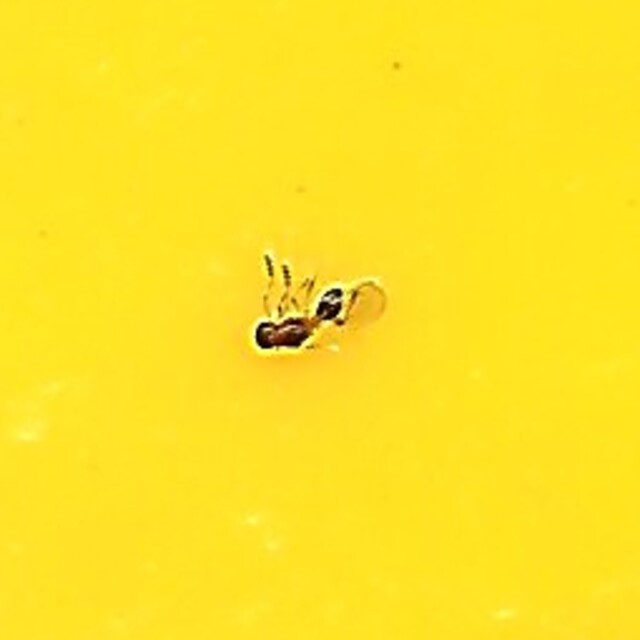Hymenoptera: (251, 260, 389, 380)
